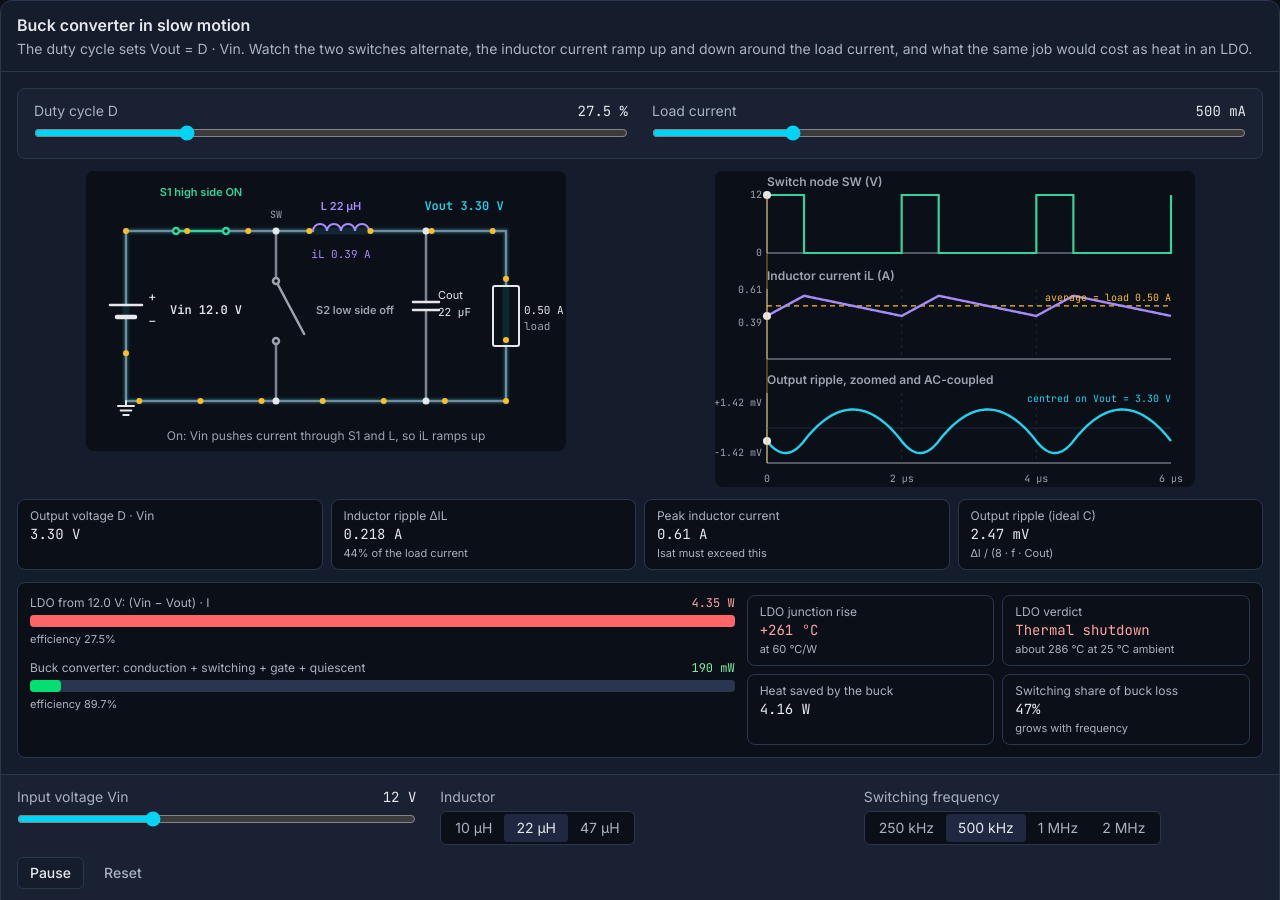
BuckConverter › the duty slider sets Vout = D · Vin, and 95% leaves the LDO in dropout
Set the slider labelled "Duty cycle D 27.5 %" to "50" at (331, 133), box [34,125,628,141]
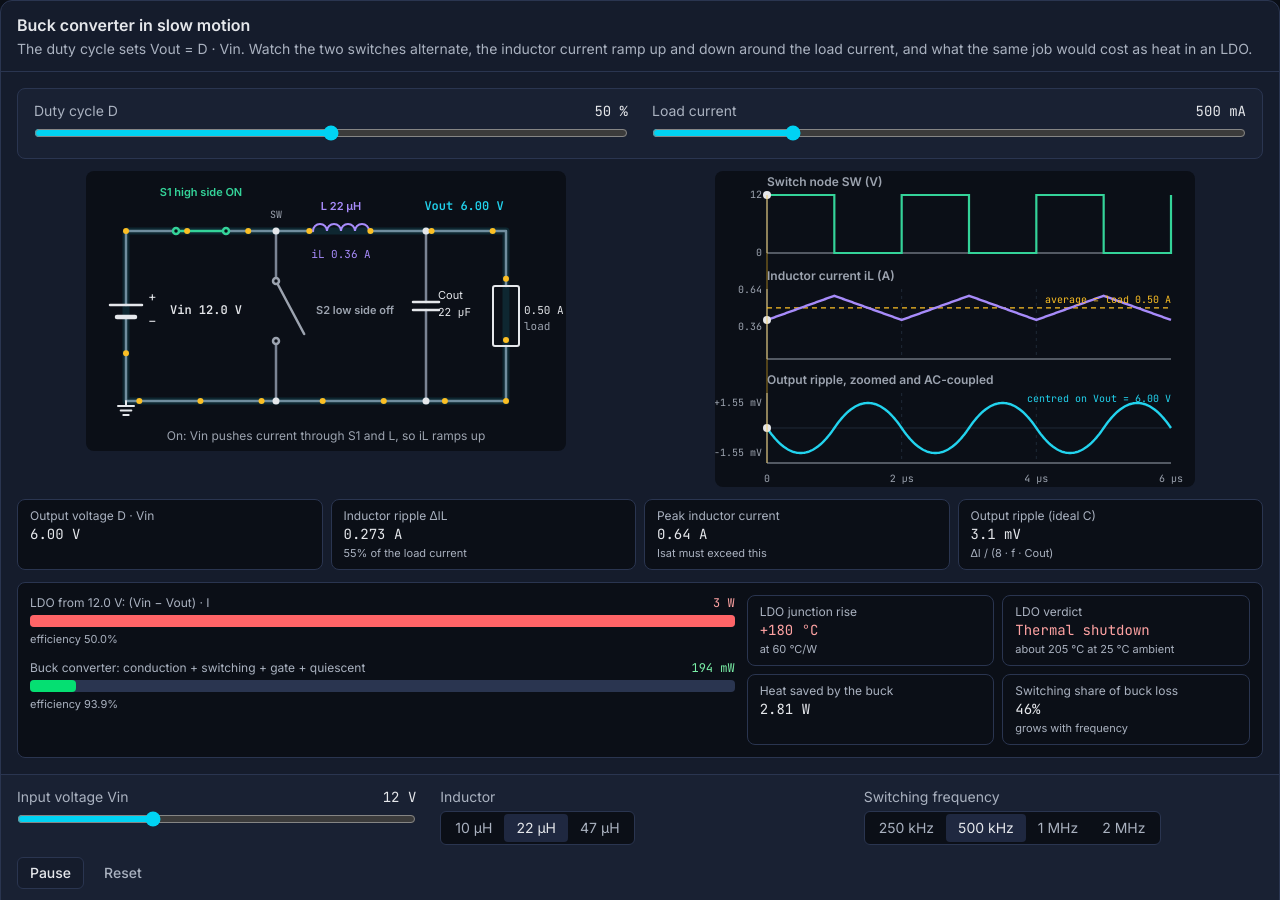
Expected: the text "6.00 V" is shown, [30,525,80,543]
Set the slider labelled "Duty cycle D 50 %" to "95" at (620, 133), box [34,125,628,141]
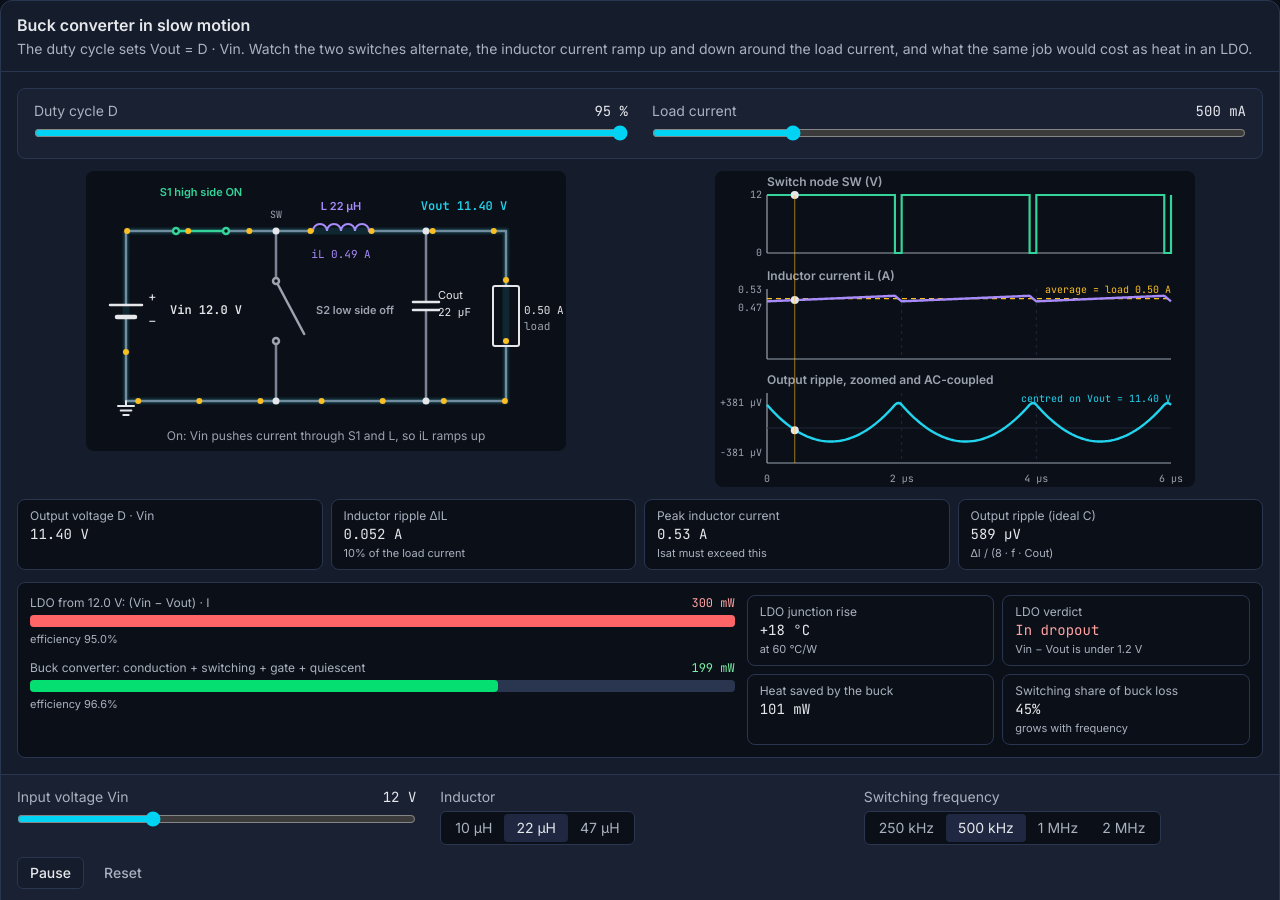
Expected: the text "11.40 V" is shown, [30,525,89,543]
Expected: the text "In dropout" is shown, [1015,621,1099,639]
